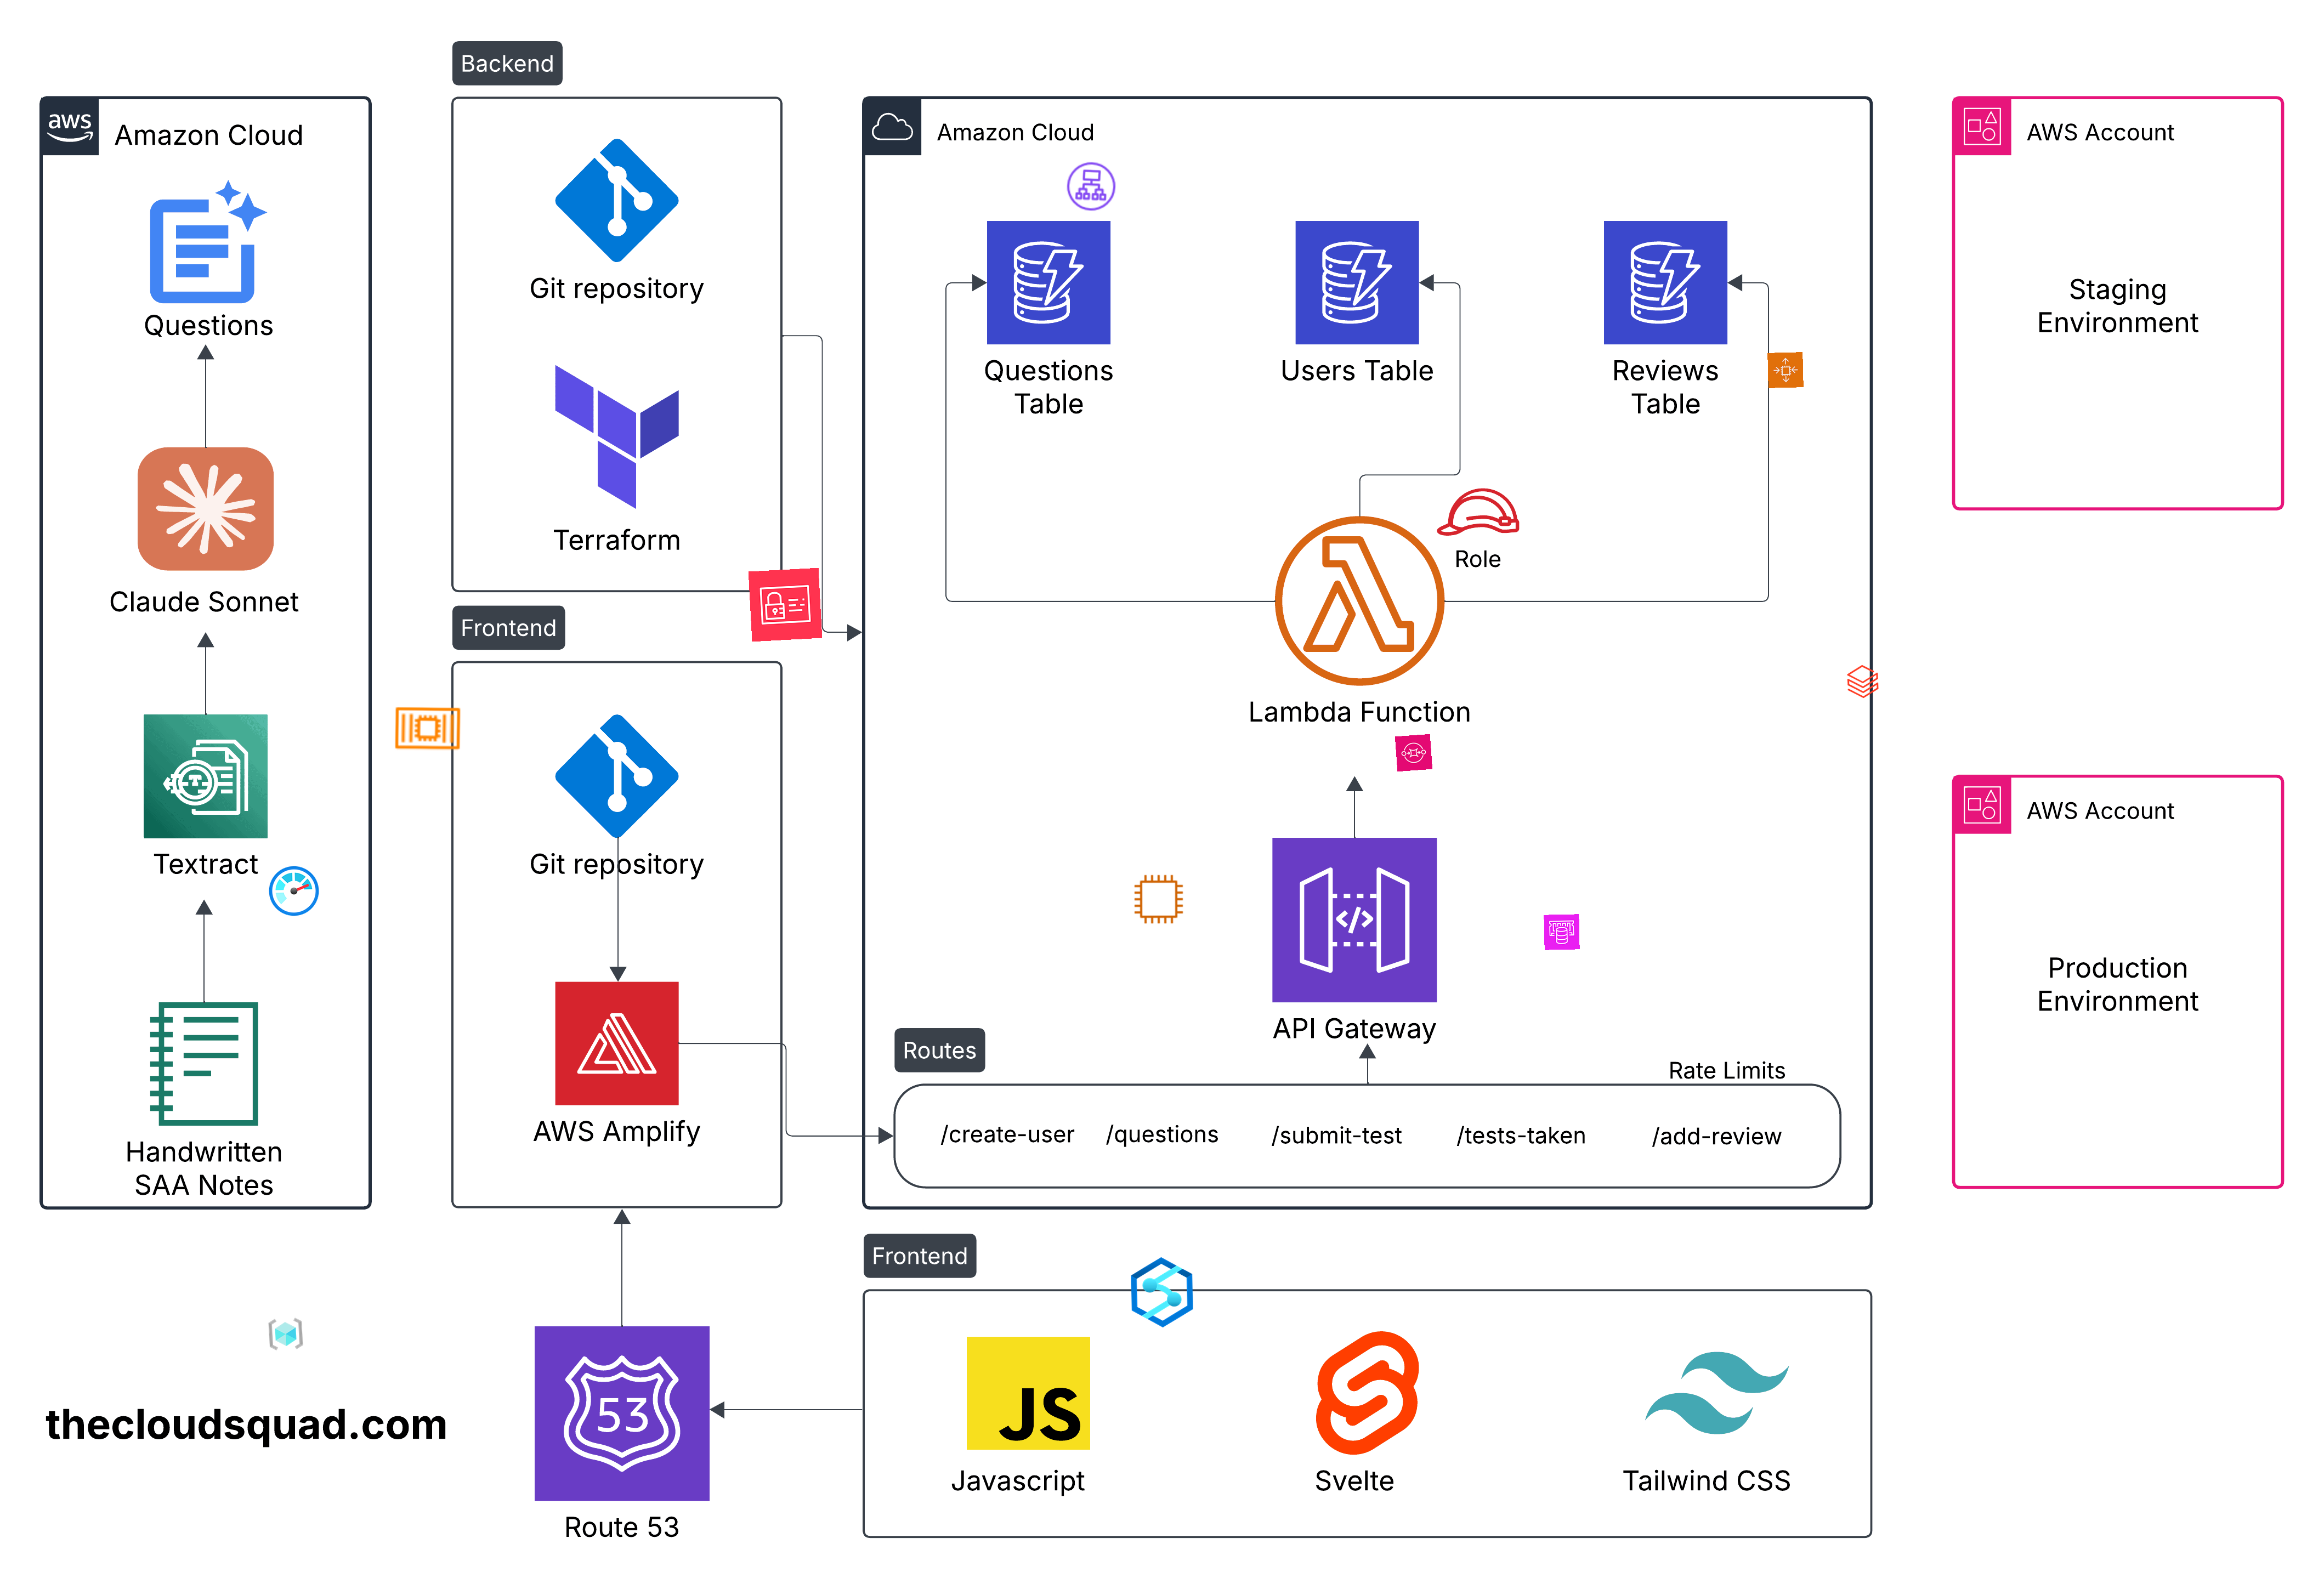aws_amazon_ec2_auto_scaling: (1768, 352, 1803, 387)
aws_amazon_elasticache: (1544, 914, 1579, 951)
aws_amazon_simple_queue_service: (1394, 734, 1433, 771)
aws_ec2_instance: (1132, 872, 1185, 926)
aws_elastic_container_service_container_2: (393, 692, 463, 764)
aws_elastic_load_balancing_application_load_balancer: (1063, 159, 1120, 215)
aws_identity_and_access_management: (748, 567, 822, 643)
azure_databricks: (1843, 662, 1882, 701)
azure_monitor: (266, 863, 322, 918)
azure_resource_groups: (268, 1316, 305, 1353)
azure_synapse_analytics: (1125, 1256, 1199, 1328)
